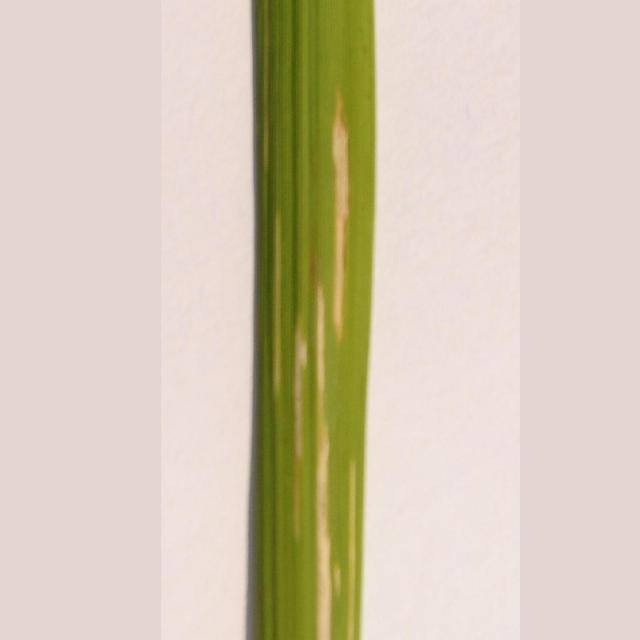leaf blight: (266, 91, 372, 634)
